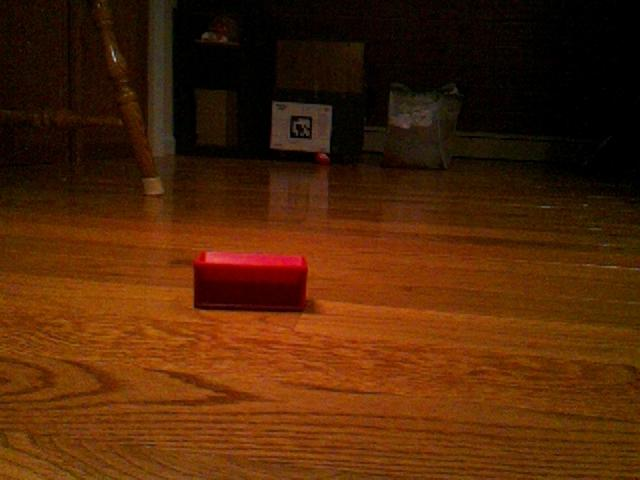red: (192, 249, 310, 313)
